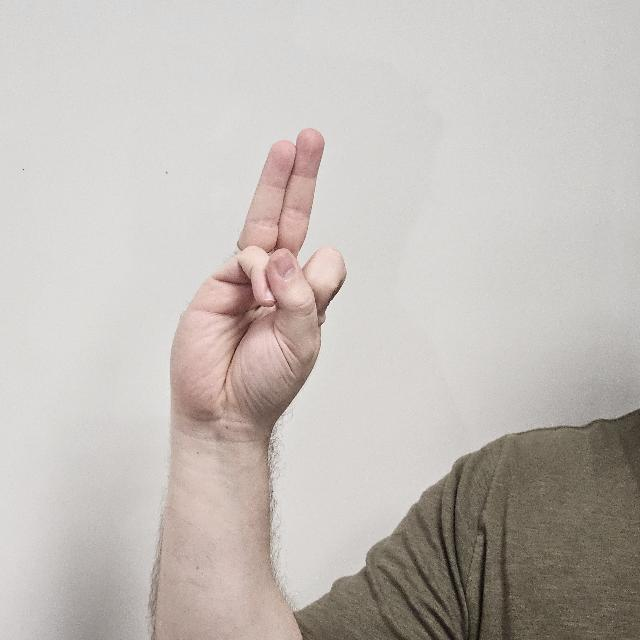R: (169, 128, 347, 446)
